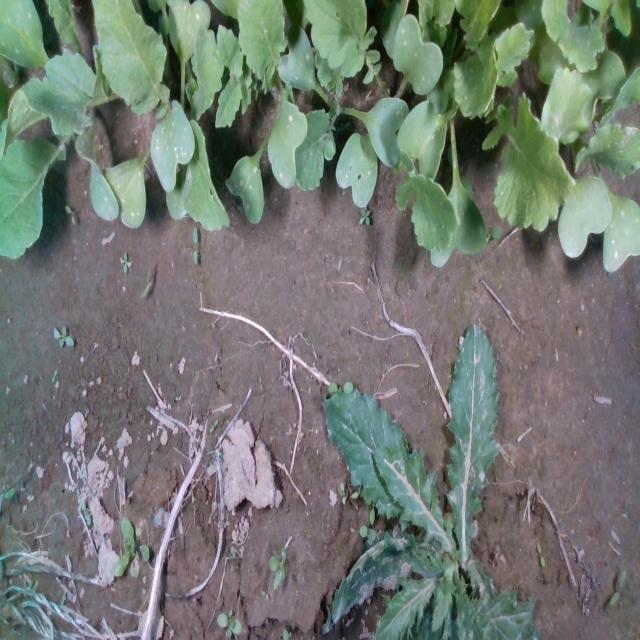weed: (266, 544, 286, 591), (216, 606, 242, 638), (608, 567, 626, 606), (53, 324, 74, 346), (119, 250, 132, 274), (358, 206, 372, 225), (192, 226, 198, 266), (536, 541, 545, 567), (64, 202, 74, 225)
